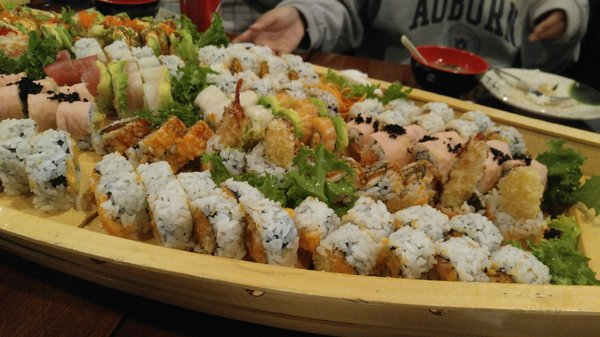sushi: (0, 21, 599, 330), (401, 40, 490, 99)
